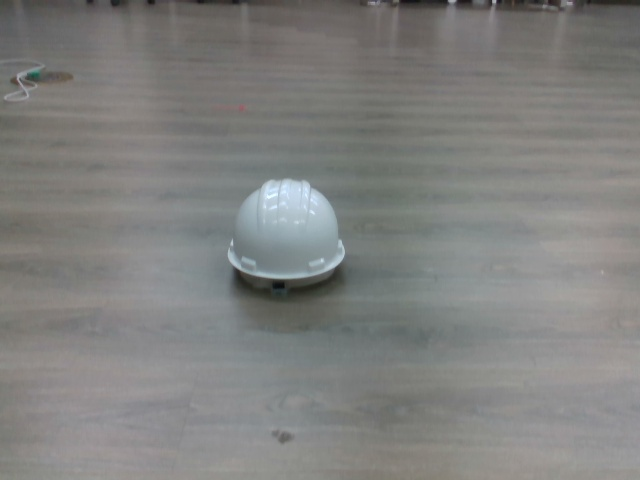helmet: (225, 176, 350, 293)
